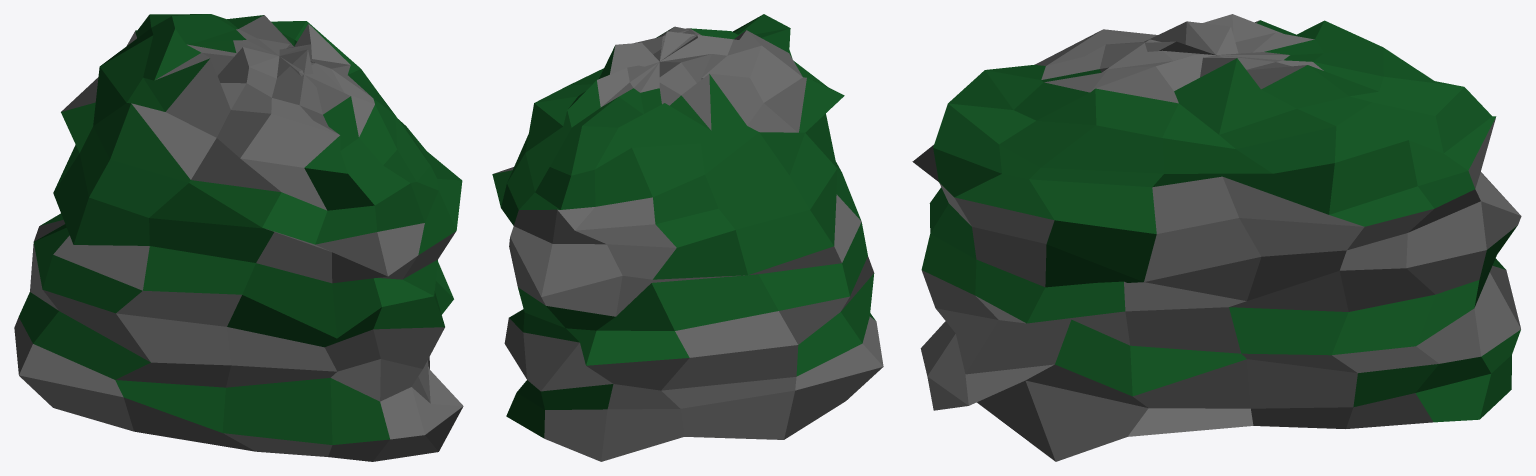
File: fjord.fbx
The picture shows the model from 3 angles, left to right: view 1: azimuth 30°, elevation 25°; view 2: azimuth 150°, elevation 25°; view 3: azimuth 270°, elevation 25°; orthographic projection. The views are drawn at different scales.
Parts seen in each view (by area): view 1: Sphere; view 2: Sphere; view 3: Sphere.
Boxes of the visible parts, x1,y1,x2,y2 form: Sphere: [14, 14, 463, 461]; Sphere: [492, 14, 883, 461]; Sphere: [912, 14, 1521, 461].
Size of the model in its own units: 363 by 327 by 469.
